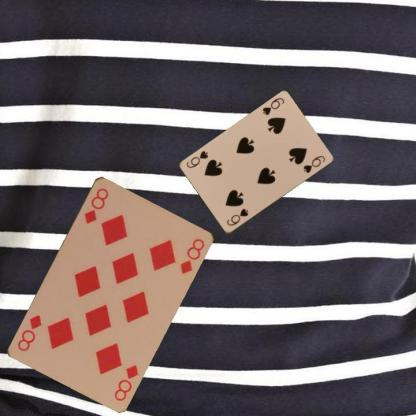6s: (260, 95, 285, 117), (224, 206, 250, 227)
8d: (81, 185, 110, 225), (111, 362, 139, 402)
